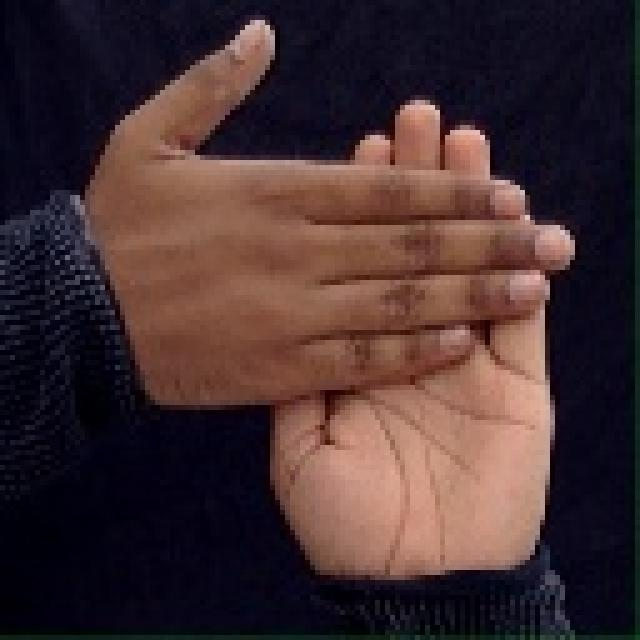Alphabet-H: (87, 6, 578, 596)
